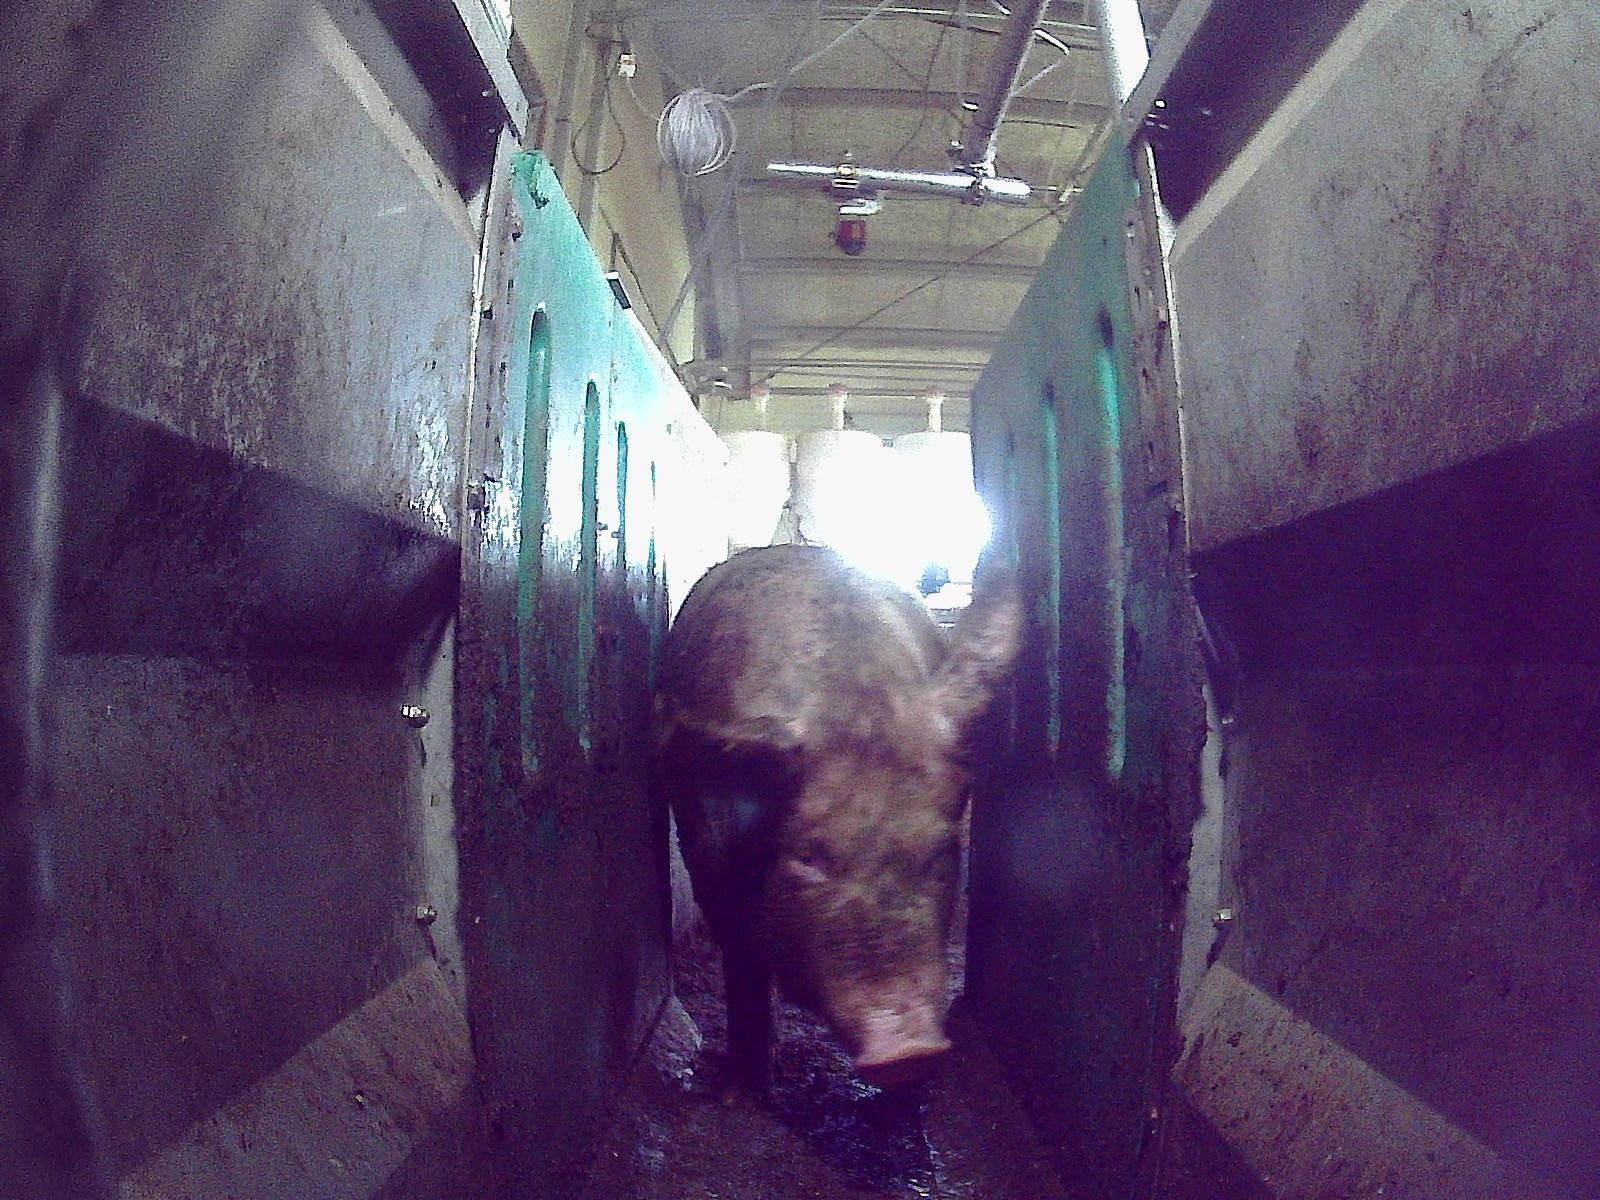Face: (762, 722, 973, 1083)
